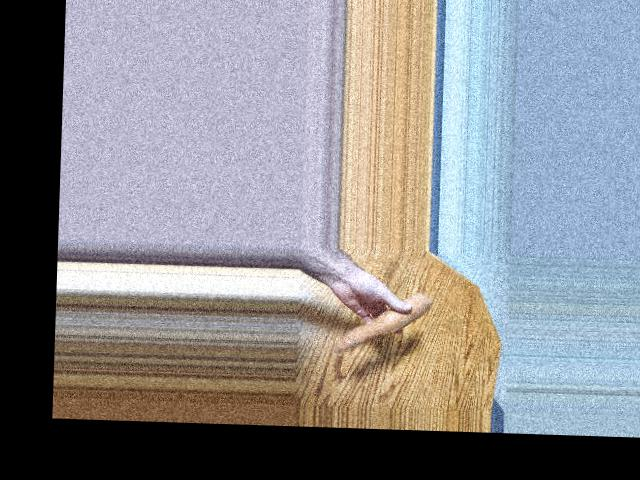sweet_potato: (334, 294, 443, 349)
